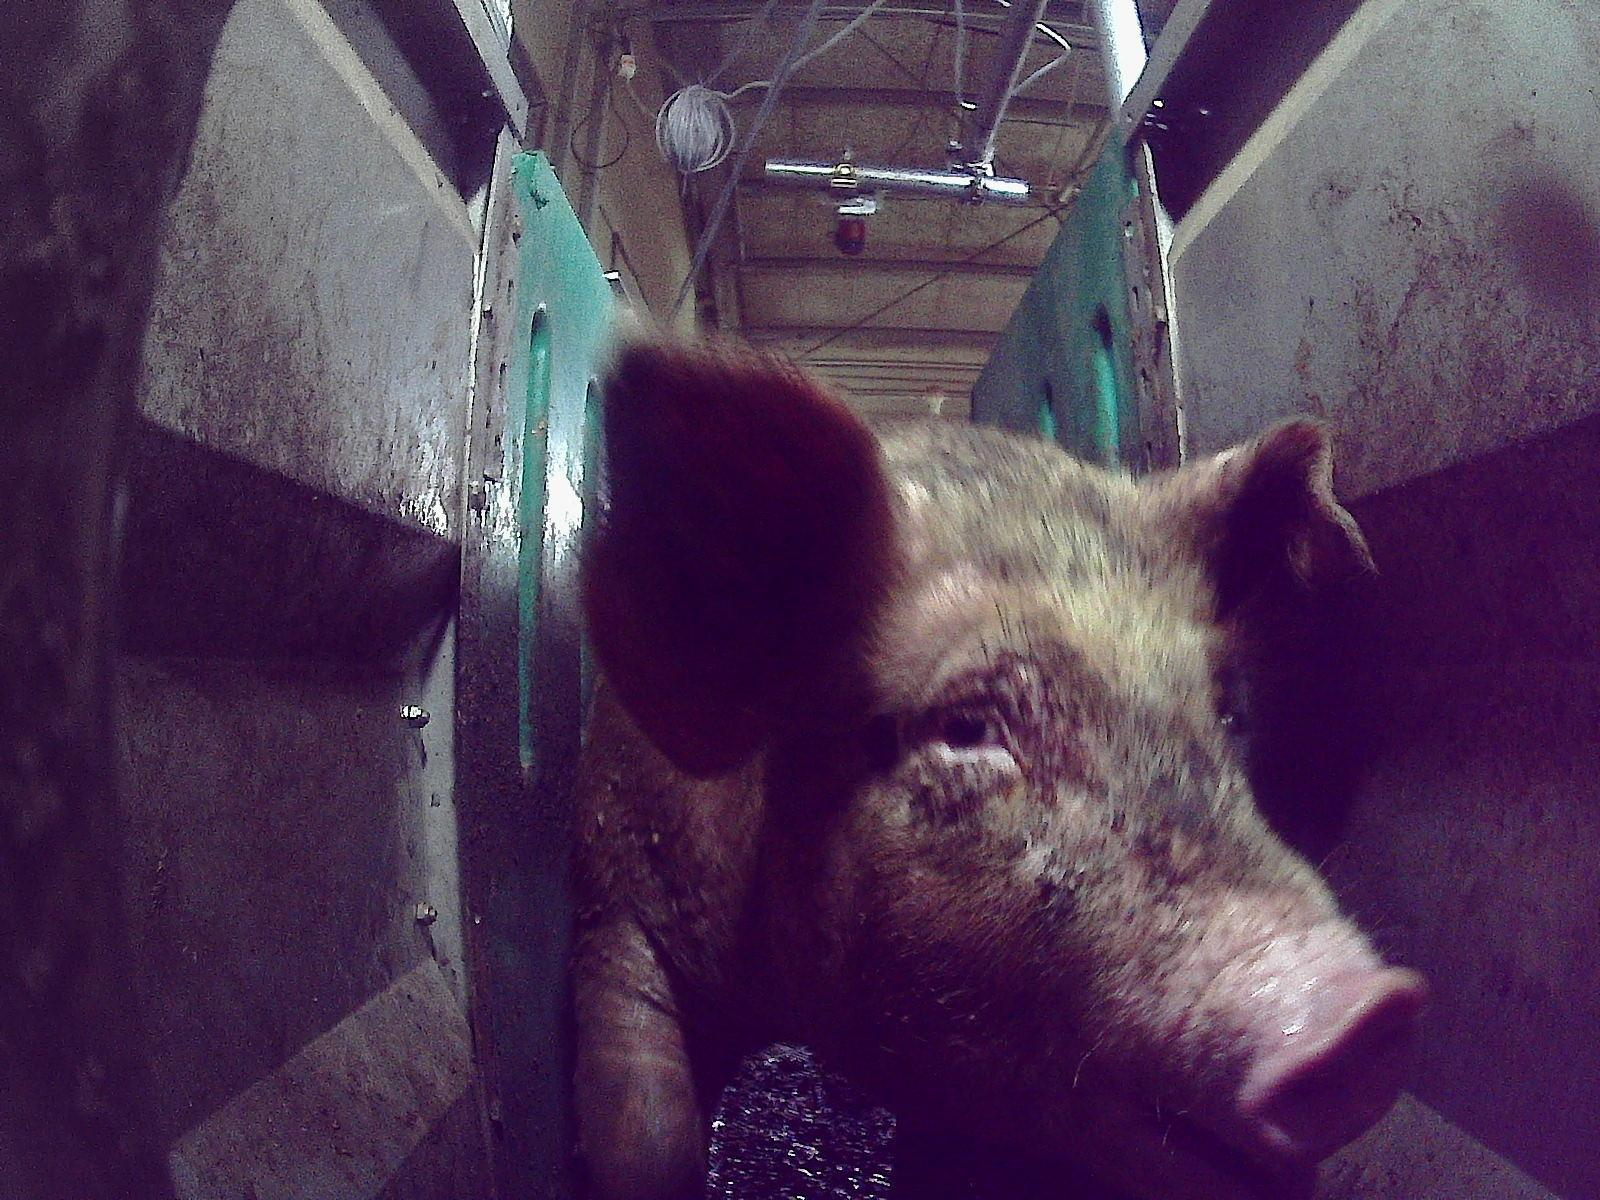Face: (757, 478, 1427, 1162)
